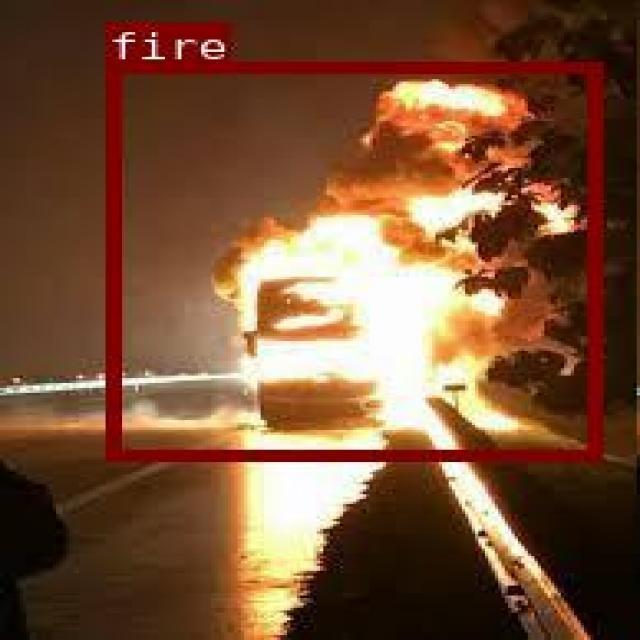fire: (105, 62, 600, 458)
